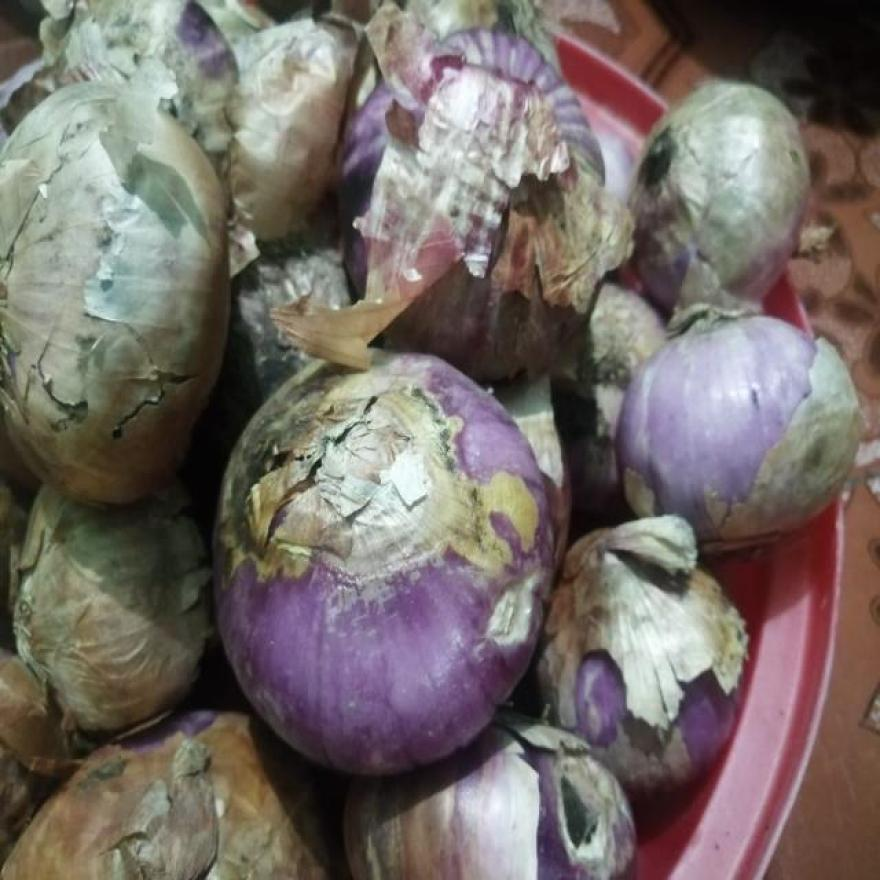Rotten: (280, 398, 440, 570), (384, 97, 526, 289), (63, 586, 198, 716)
